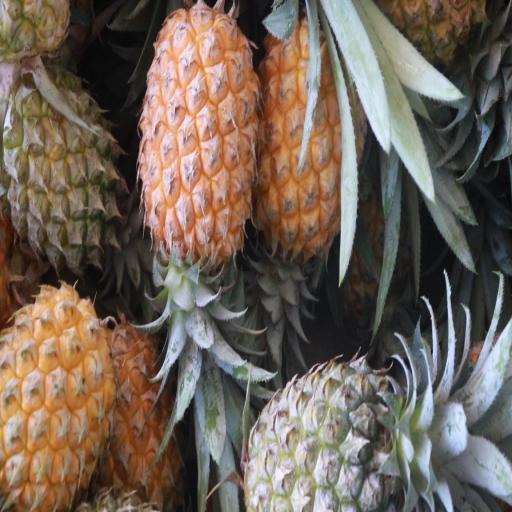------------------------------: (1, 66, 118, 271)
Pineapple - v8 v1: (138, 10, 258, 264), (257, 8, 368, 248), (0, 285, 113, 509)
